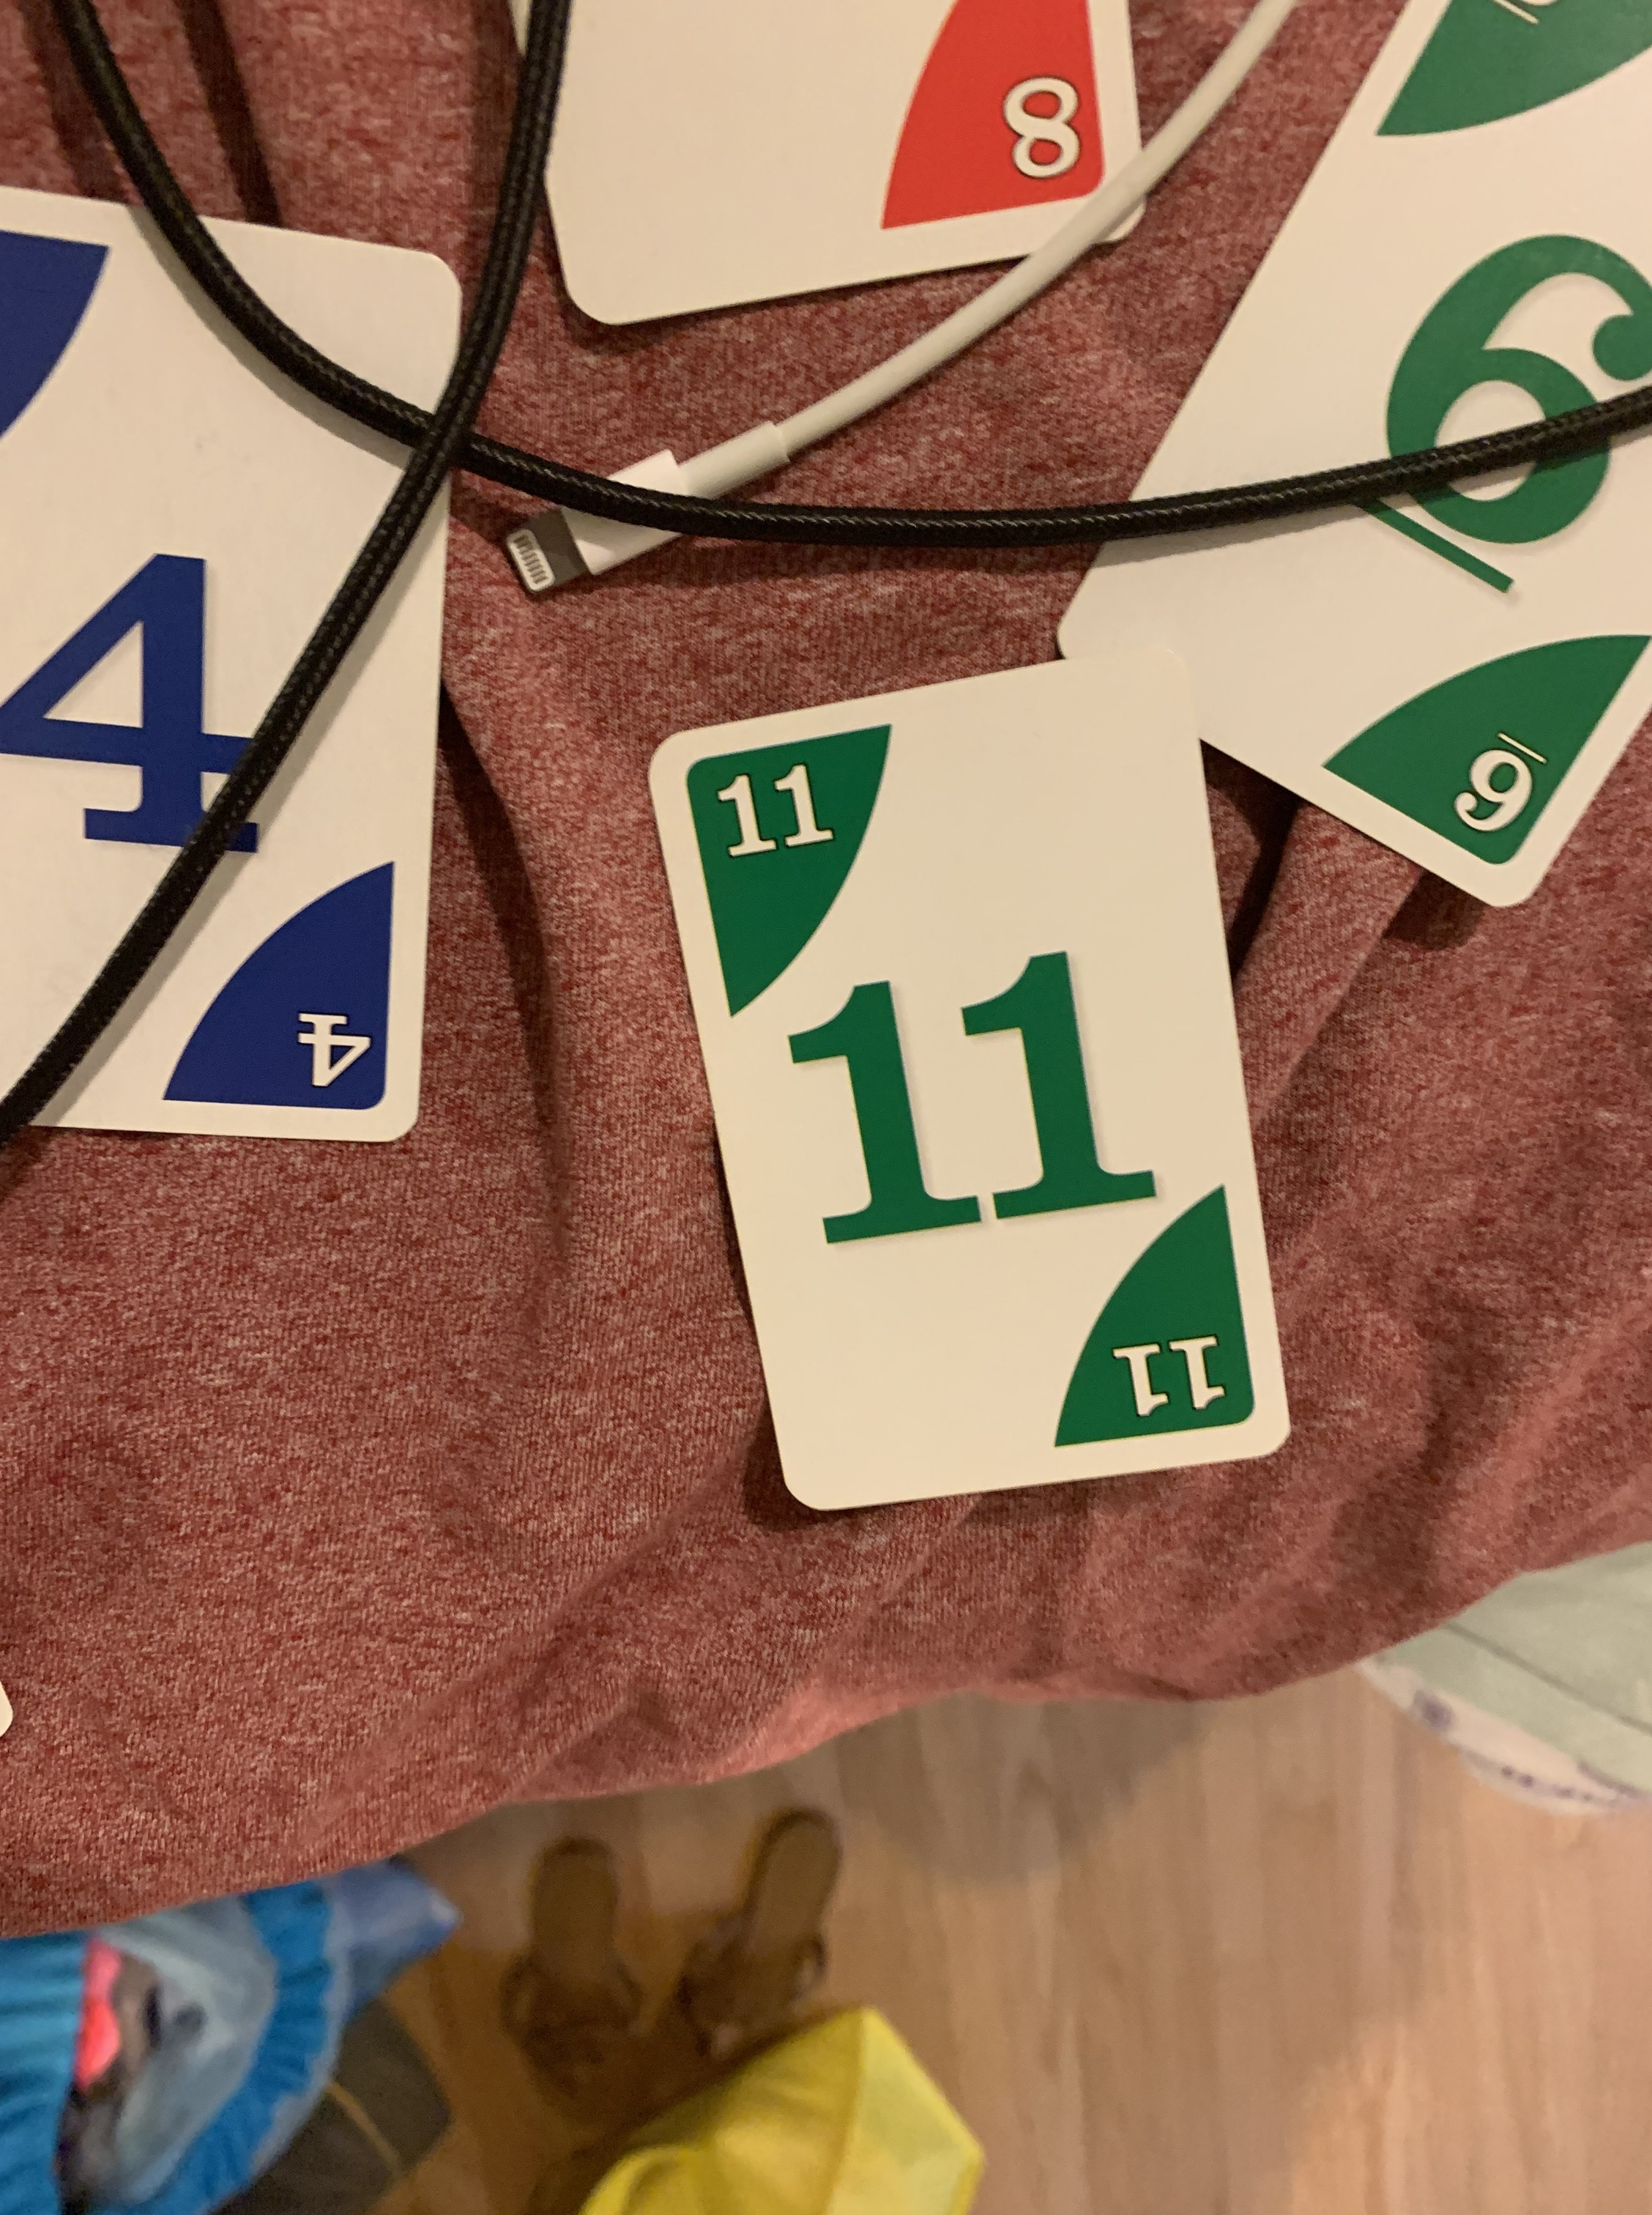eleven: (633, 647, 1308, 1522)
four: (0, 174, 481, 1167)
six: (1039, 2, 1652, 934)
